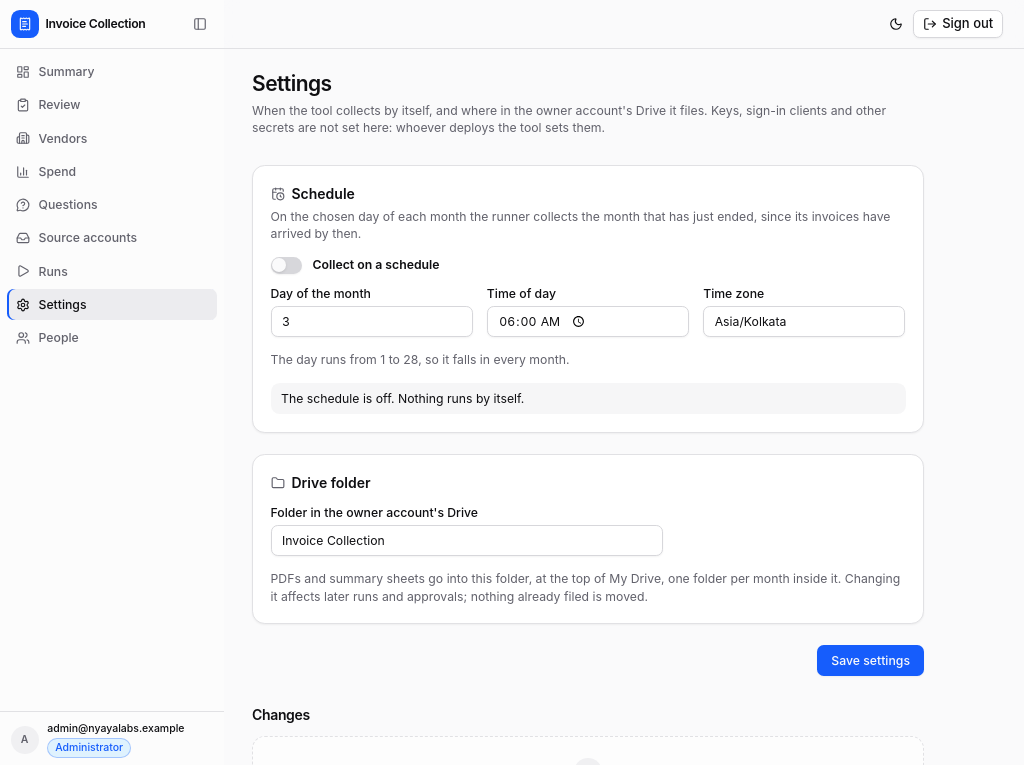
Test case: a change kept while the runner cannot be reached says it will pick it up
Click the switch named "Collect on a schedule" at point(286, 265), box x1=270 y1=256 x2=302 y2=274
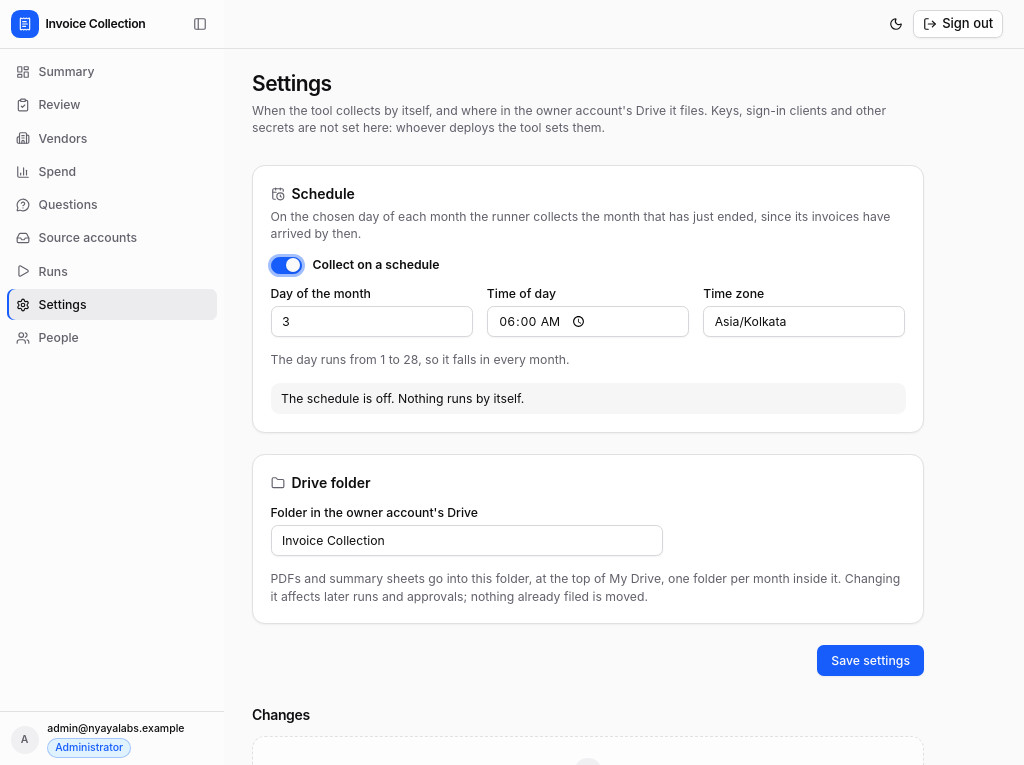
Click the button "Save settings" at point(871, 660), box x1=817 y1=644 x2=924 y2=676
(page scrolled)
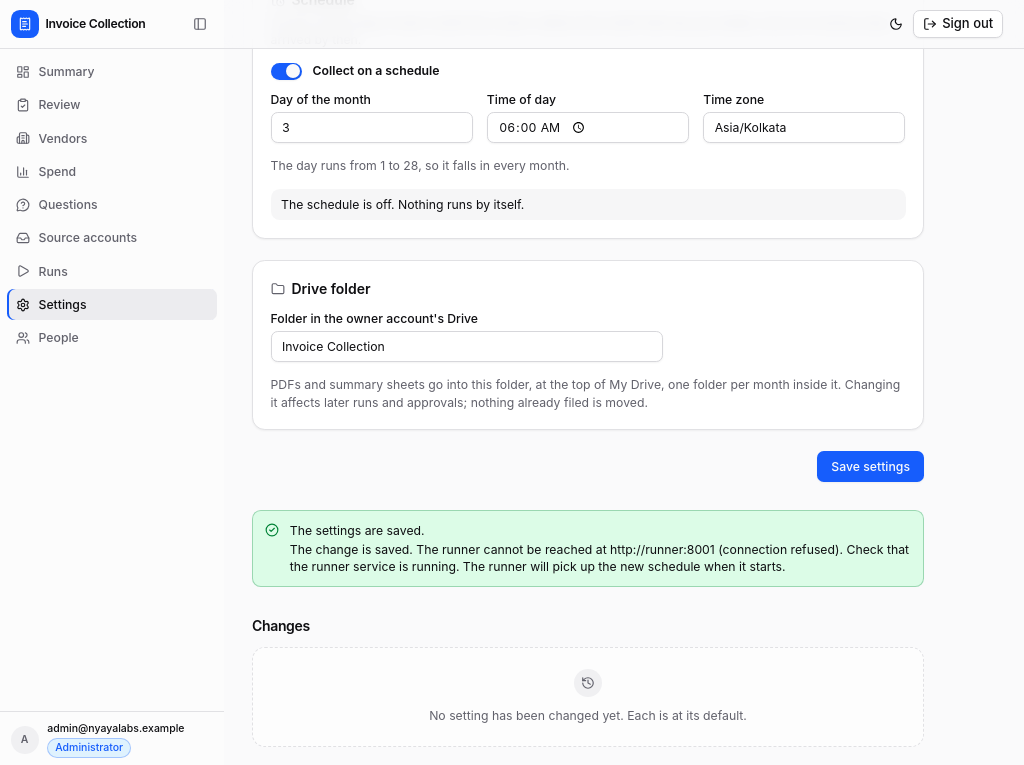
Expected: the text "The change is saved. The runner cannot be reached at http://runner:8001 (connection refused). Check that the runner serv" is shown, x1=290 y1=542 x2=909 y2=574
